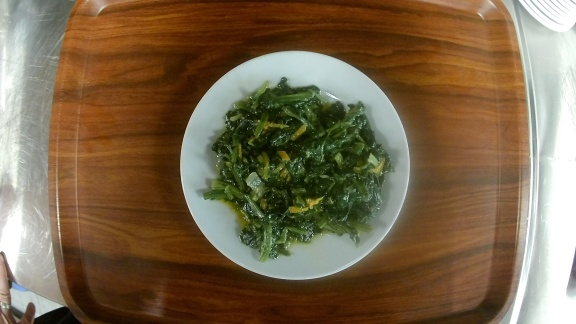ispanak: (175, 50, 415, 282)
